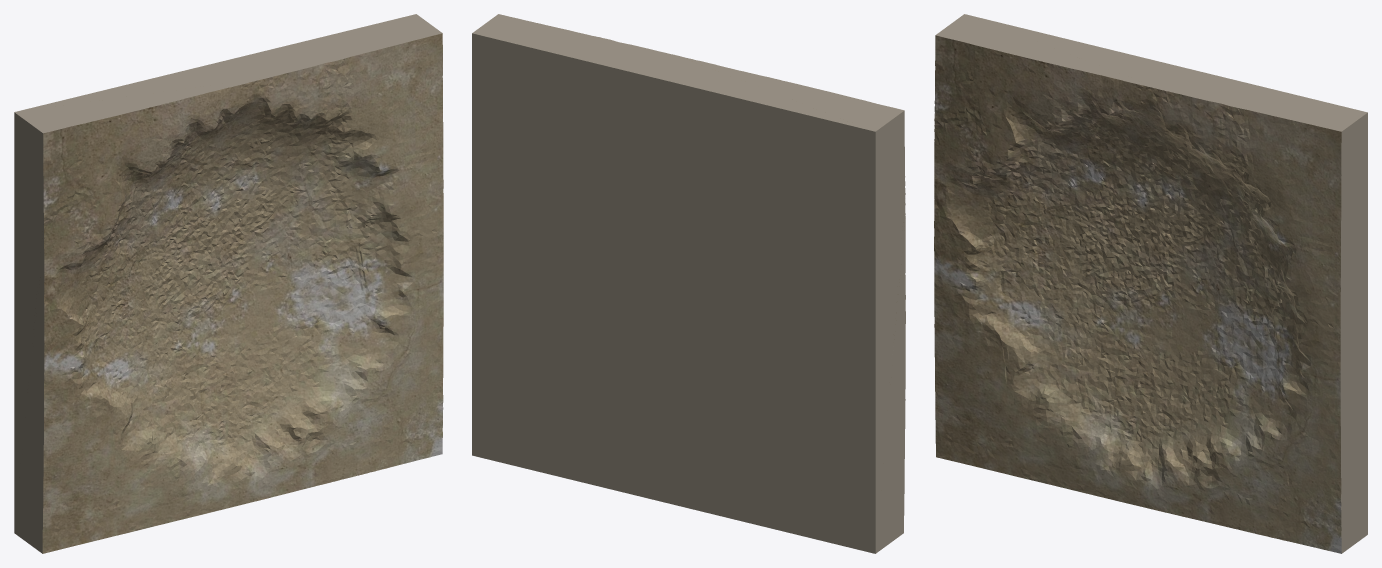
Rendered from victoria_crater_texture.dae.
The picture shows the model from 3 angles, left to right: view 1: azimuth 30°, elevation 25°; view 2: azimuth 150°, elevation 25°; view 3: azimuth 330°, elevation 25°; orthographic projection.
Parts seen in each view (by area): view 1: node; view 2: node; view 3: node.
Boxes of the visible parts, box(x1,y1,x2,y2) form: node: box(14, 14, 443, 553); node: box(472, 14, 905, 553); node: box(934, 14, 1367, 553).
Bounding box in the file's own units: 304 × 304 × 40.31.
1 material, 1 textured.
